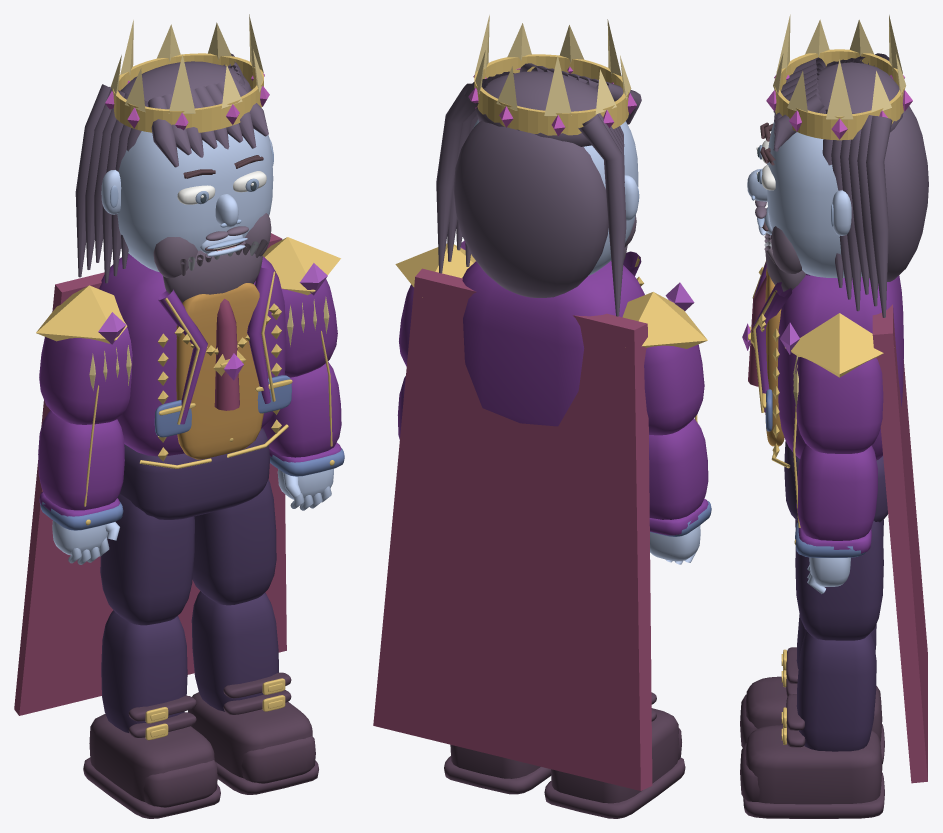
Rendered from JAKAL_XVI_Standalone_Concept.glb.
The picture shows the model from 3 angles, left to right: view 1: azimuth 30°, elevation 25°; view 2: azimuth 150°, elevation 25°; view 3: azimuth 270°, elevation 25°; orthographic projection. The views are drawn at different scales.
Visible parts, largest first — view 1: Royal burgundy velvet mantle, Face, Puffer body, R thigh, Waistcoat, Pants hips, L thigh, R shin, L shin, R lowerArm, R upperArm, R foot boot (+36 smaller); view 2: Royal burgundy velvet mantle, Long hair back, Puffer body, R lowerArm, Imperial crown circlet, R upperArm, R foot boot, Long hair layered strand -15, Hair crown, Long hair layered strand 15, Gold ceremonial epaulette -1, Boot sole -1 (+9 smaller); view 3: Royal burgundy velvet mantle, L shin, L foot boot, Face, L upperArm, Puffer body, L lowerArm, L thigh, Long hair back, Imperial crown circlet, Gold ceremonial epaulette 1, Long hair layered strand 15 (+30 smaller).
Boxes of the visible parts, <box> form: Royal burgundy velvet mantle: <box>14,233,286,715</box>; Face: <box>117,129,273,271</box>; Puffer body: <box>99,254,286,456</box>; R thigh: <box>100,494,194,625</box>; Waistcoat: <box>176,283,264,459</box>; Pants hips: <box>120,428,269,519</box>; L thigh: <box>192,479,276,605</box>; R shin: <box>101,610,187,732</box>; L shin: <box>191,591,278,711</box>; R lowerArm: <box>38,410,124,510</box>; R upperArm: <box>39,327,132,424</box>; R foot boot: <box>89,714,214,802</box>; Royal burgundy velvet mantle: <box>373,268,652,790</box>; Long hair back: <box>453,121,608,297</box>; Puffer body: <box>462,261,644,426</box>; R lowerArm: <box>649,418,708,519</box>; Imperial crown circlet: <box>474,54,628,135</box>; R upperArm: <box>644,344,704,435</box>; R foot boot: <box>551,708,678,803</box>; Long hair layered strand -15: <box>578,114,626,316</box>; Hair crown: <box>475,71,597,146</box>; Long hair layered strand 15: <box>436,83,478,273</box>; Gold ceremonial epaulette -1: <box>622,292,707,348</box>; Boot sole -1: <box>544,757,685,818</box>; Royal burgundy velvet mantle: <box>872,304,927,783</box>; L shin: <box>796,631,876,751</box>; L foot boot: <box>745,725,882,804</box>; Face: <box>767,122,862,278</box>; L upperArm: <box>795,357,883,453</box>; Puffer body: <box>777,275,903,460</box>; L lowerArm: <box>796,444,877,540</box>; L thigh: <box>795,521,883,640</box>; Long hair back: <box>869,106,928,281</box>; Imperial crown circlet: <box>774,49,904,140</box>; Gold ceremonial epaulette 1: <box>785,313,883,377</box>; Long hair layered strand 15: <box>866,116,892,317</box>.
Size of the model in its own units: 0.9167 by 2.12 by 0.4856.
